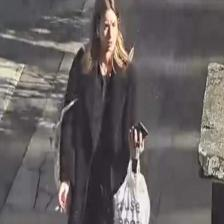person: (58, 0, 146, 224)
